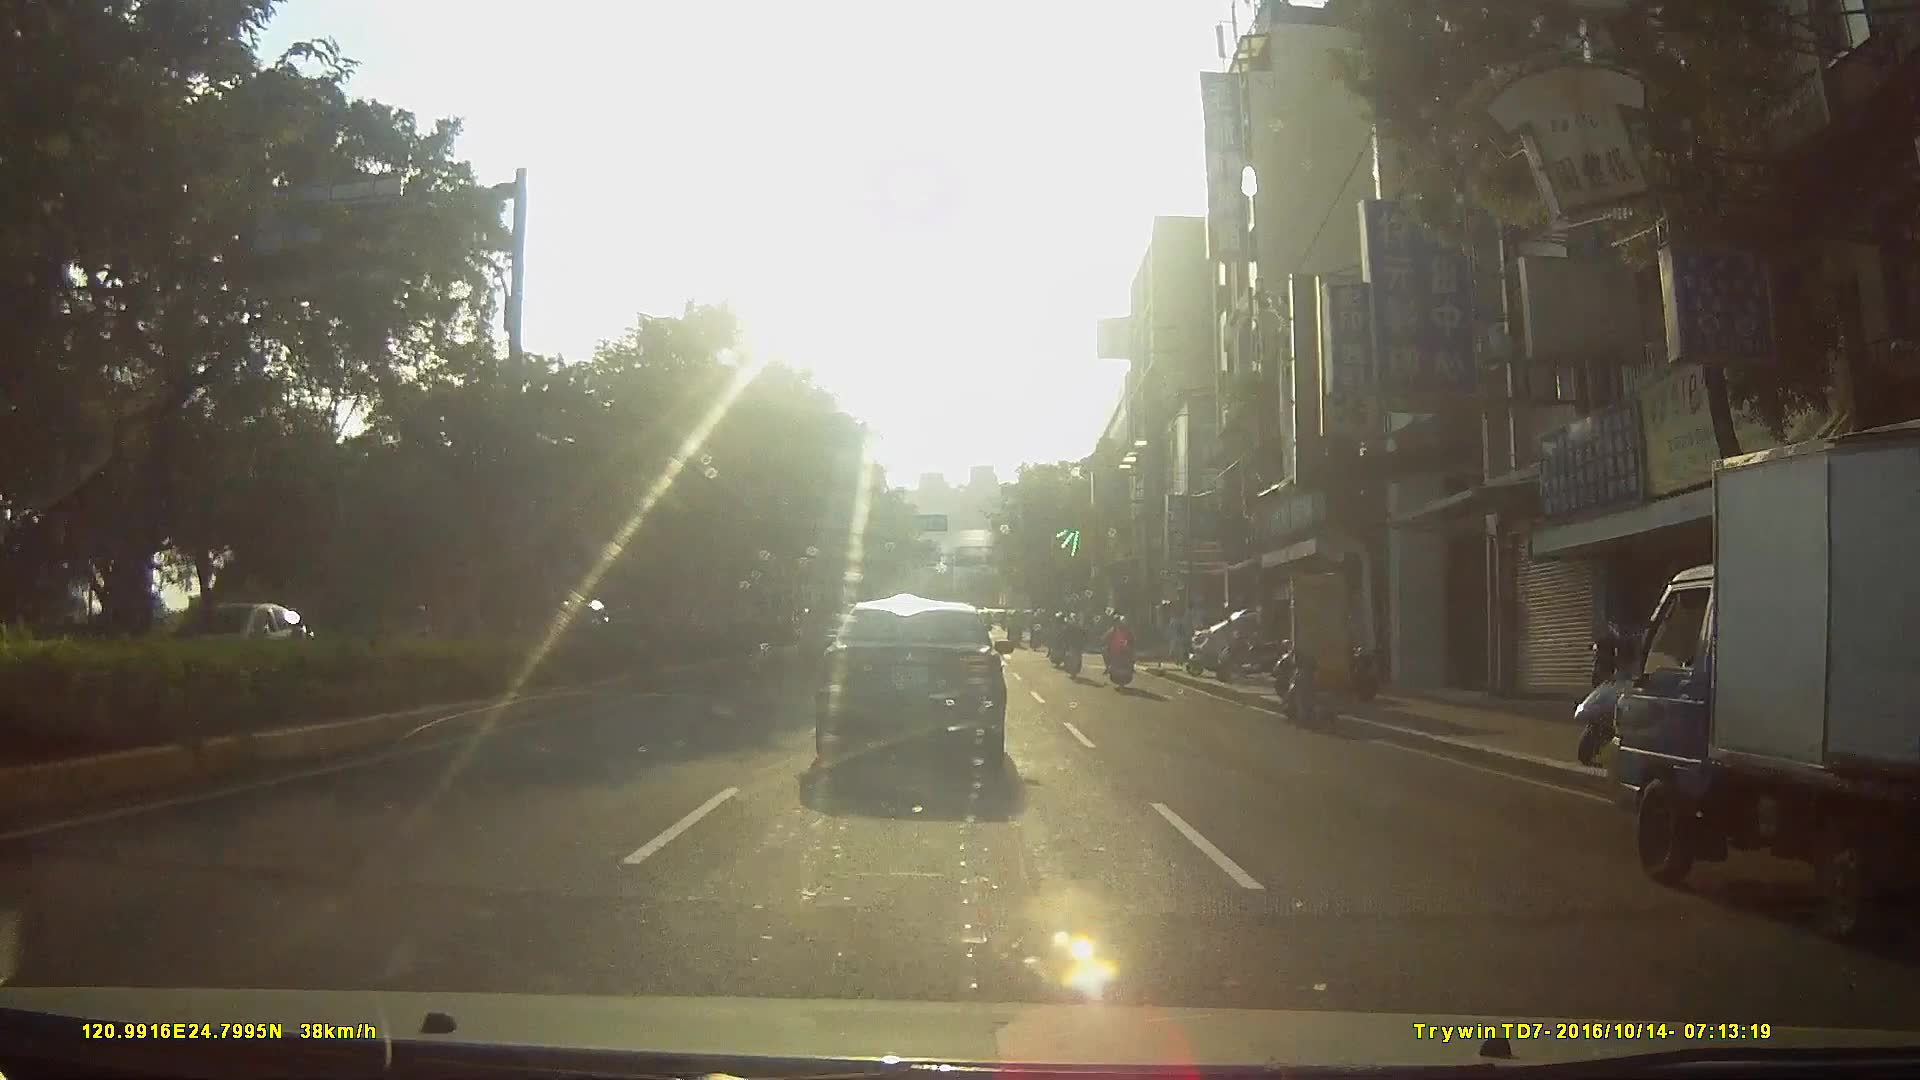rider: (1104, 617, 1138, 694), (1062, 611, 1087, 679), (1050, 610, 1071, 669)
vehicle: (1593, 417, 1920, 908), (809, 596, 1018, 782), (125, 599, 311, 682)
